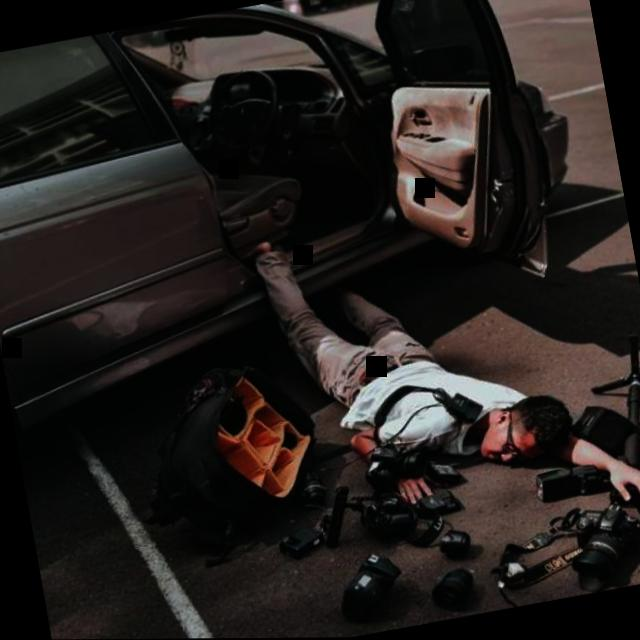Fall-Detected: (221, 160, 640, 558)
